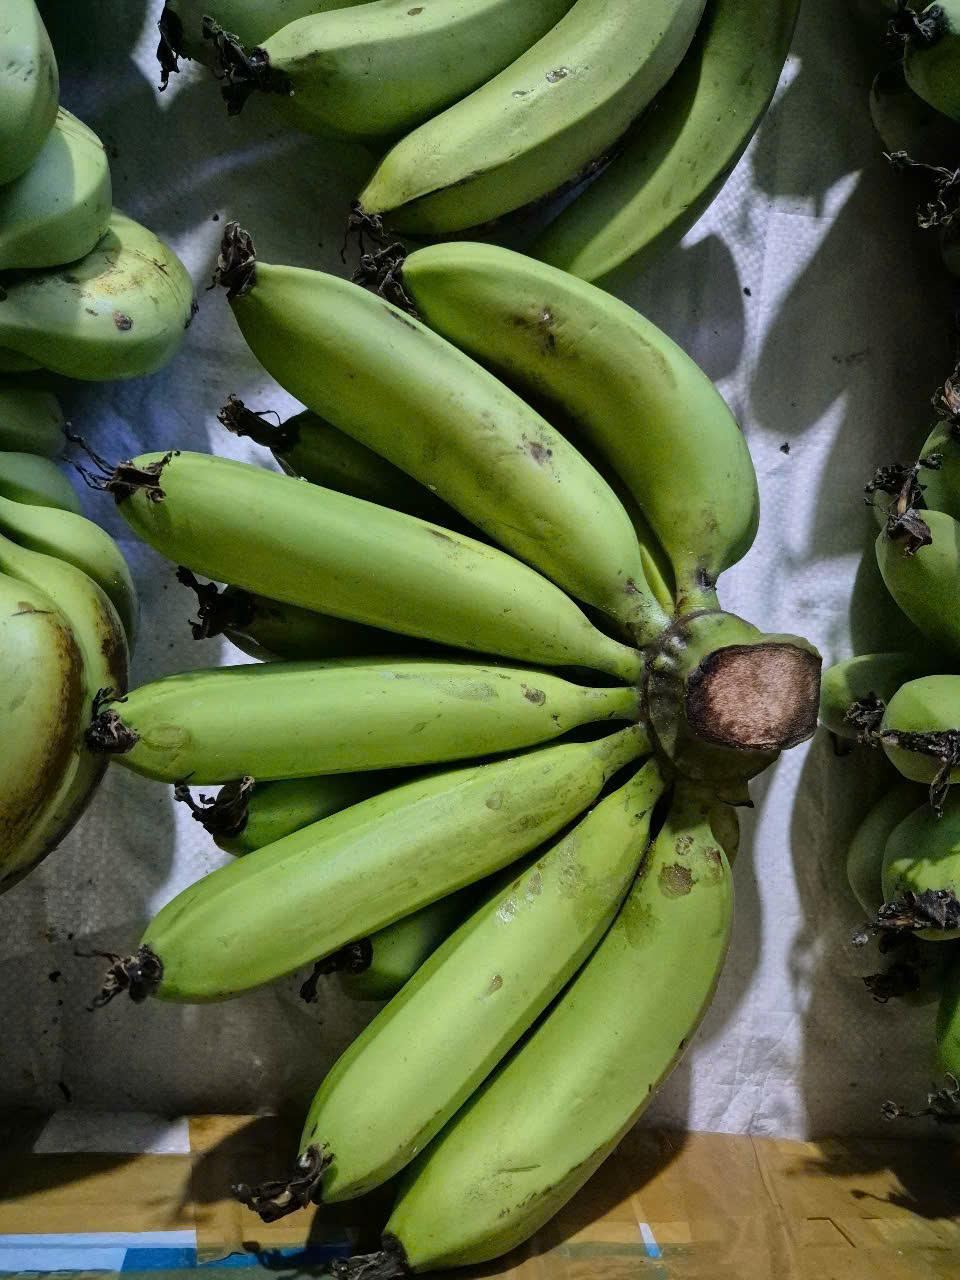banana: (146, 210, 812, 1259), (170, 0, 783, 216)
